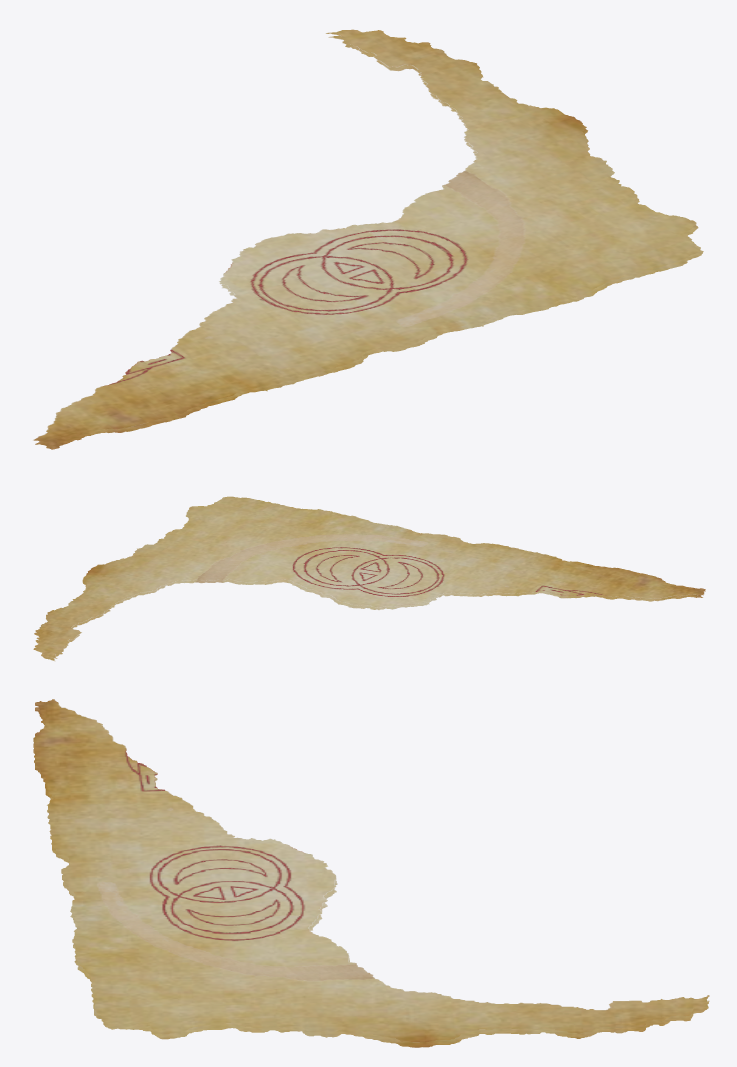
The model's file is NoteForBookshelf2.fbx.
3 renders of one model, top to bottom at view 1: azimuth 30°, elevation 25°; view 2: azimuth 150°, elevation 25°; view 3: azimuth 270°, elevation 25°, orthographic. The views are drawn at different scales.
Parts seen in each view (by area): view 1: Plane; view 2: Plane; view 3: Plane.
Part boxes in pixels (box(x1,y1,x2,y2)): Plane: box(33, 29, 703, 449); Plane: box(33, 496, 705, 661); Plane: box(33, 699, 709, 1047).
Bounding box in the file's own units: 151 × 0.8534 × 128.
